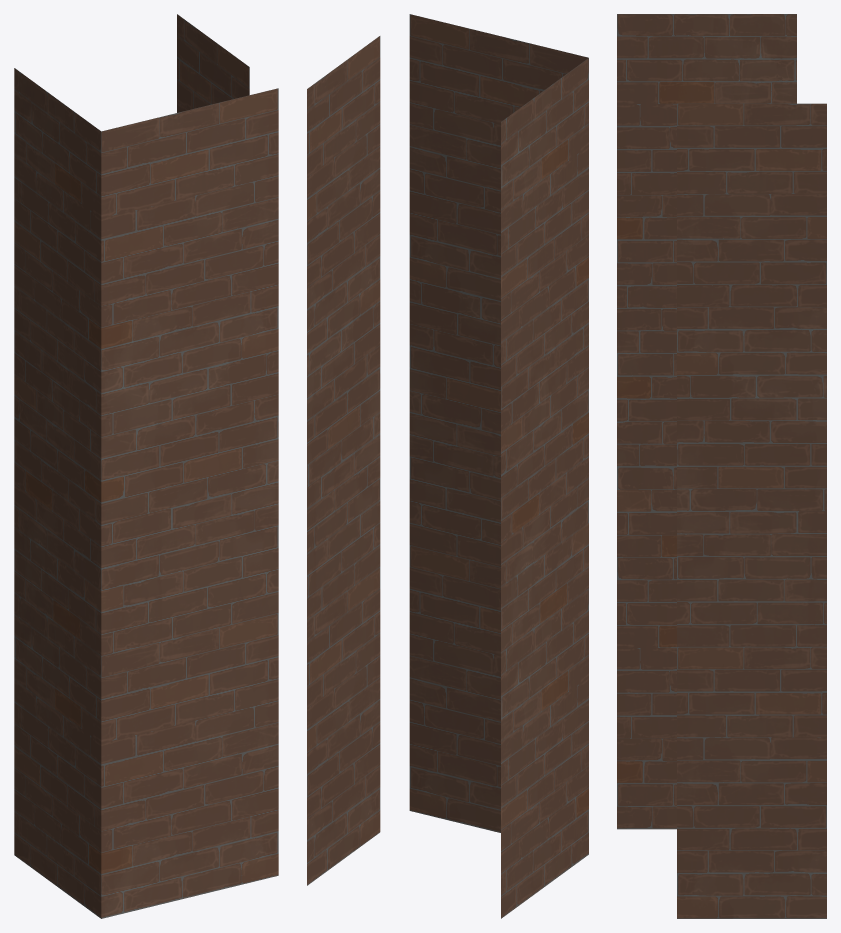
Rendered from Brick_90Angle_R.gltf.
3 renders of one model, left to right at view 1: azimuth 30°, elevation 25°; view 2: azimuth 150°, elevation 25°; view 3: azimuth 270°, elevation 25°, orthographic. The views are drawn at different scales.
Visible parts, largest first — view 1: Brick_90Angle_R; view 2: Brick_90Angle_R; view 3: Brick_90Angle_R.
Part boxes in pixels (x1=…): Brick_90Angle_R: x1=14, y1=14, x2=278, y2=918; Brick_90Angle_R: x1=307, y1=14, x2=588, y2=918; Brick_90Angle_R: x1=617, y1=14, x2=826, y2=918.
Bounding box in the file's own units: 0.7063 × 3 × 0.7001.
Materials: 2 (2 with a texture image).
